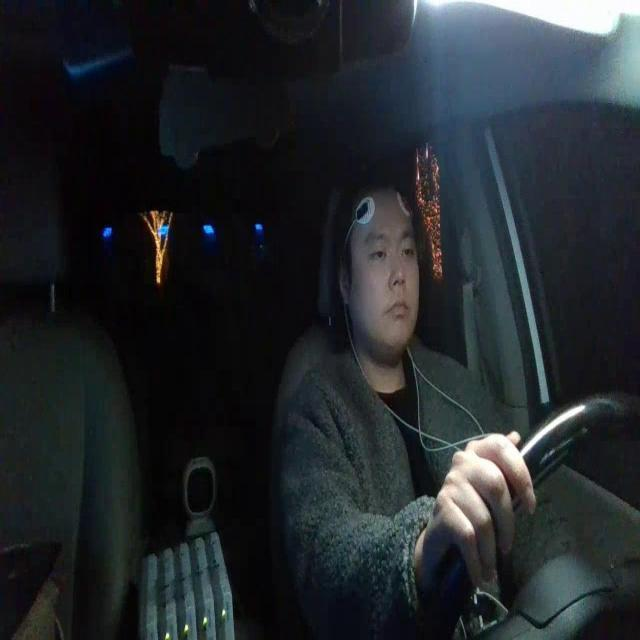Attentive: (333, 173, 422, 350)
